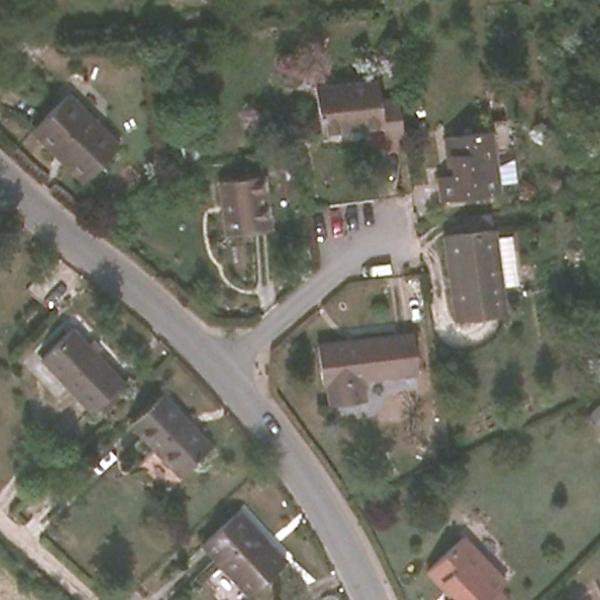Buildings: (47, 329, 129, 420), (322, 340, 418, 409), (443, 233, 510, 325), (215, 504, 278, 595), (135, 404, 207, 478), (39, 103, 112, 174), (430, 534, 508, 600), (437, 138, 505, 209), (319, 85, 398, 138), (215, 177, 275, 239)
